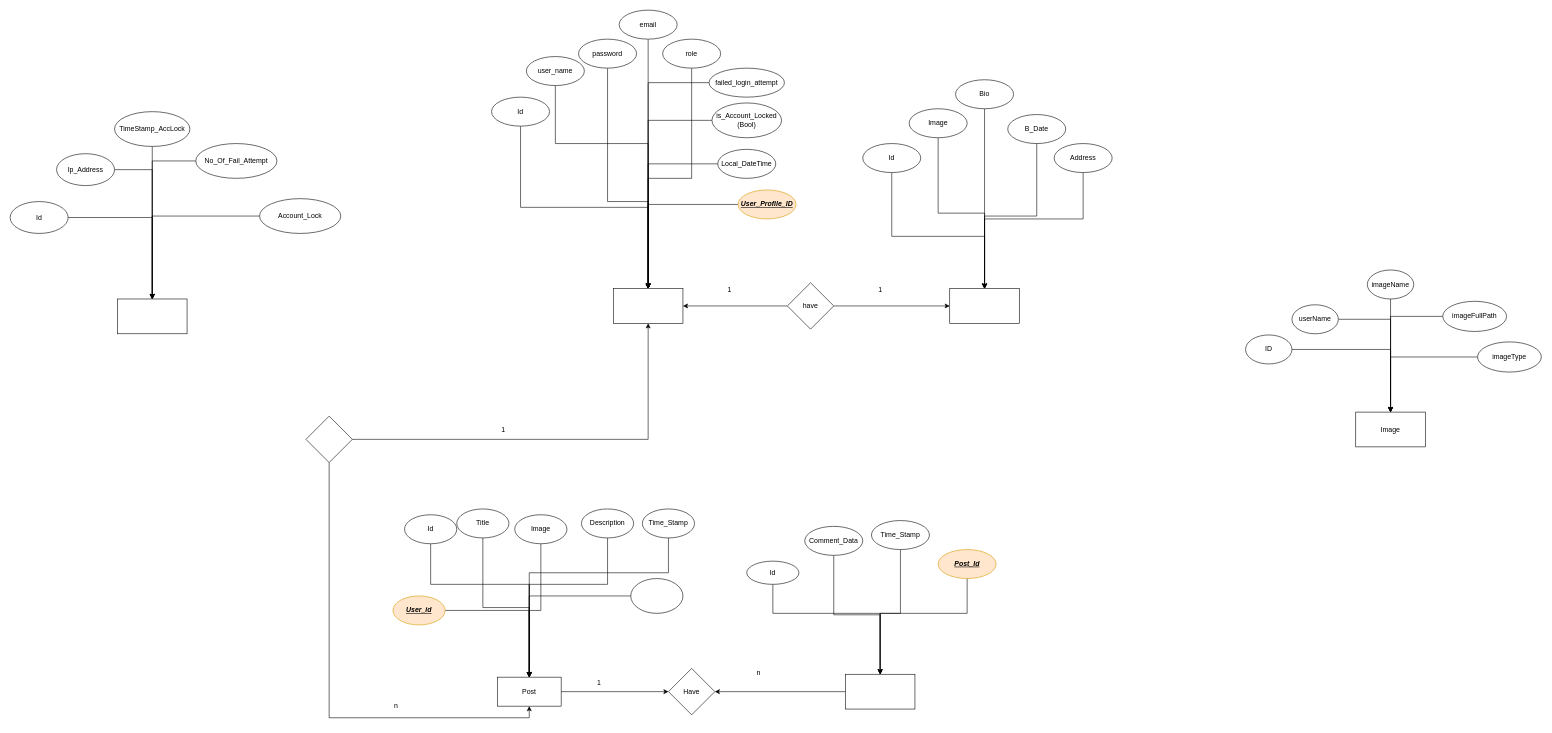
Some shapes in this 1552 by 733 pixel diagram are drawn without their labels. The centre of each missing label's shape, as x and y in pixels:
"Approved" goes at [656,595].
"Comment" goes at [880,691].
"has" goes at [328,439].
"User(Security)" goes at [648,305].
"User_Ip_Address" goes at [152,316].
"User_Profile" goes at [984,305].
